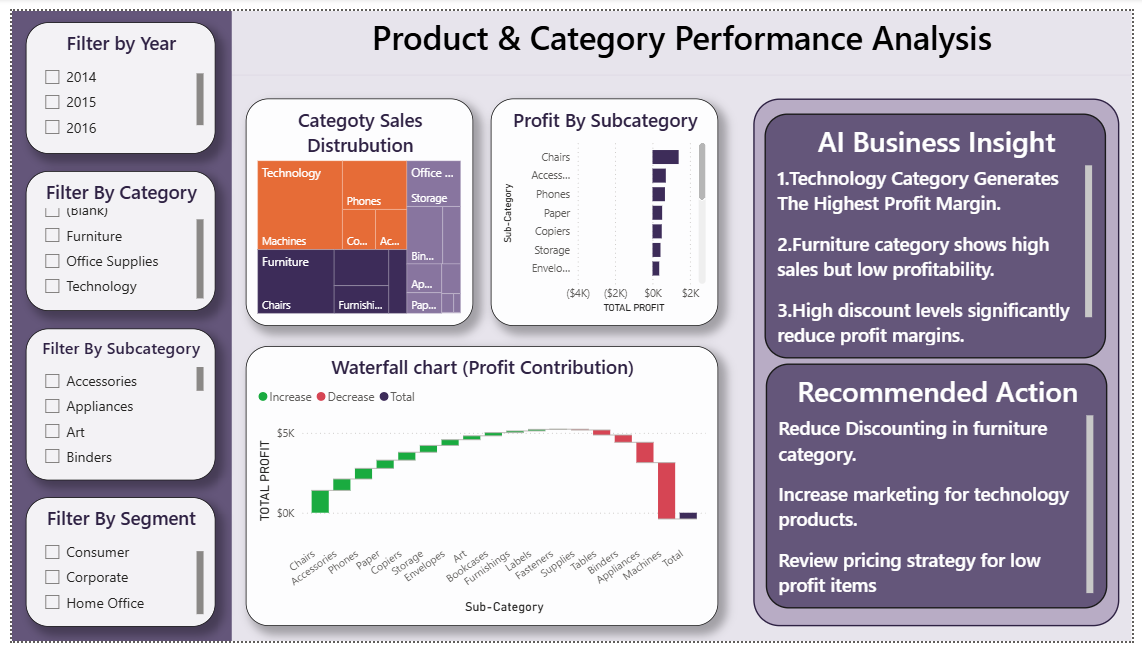

What the dashboard file says about the page in this screenshot:
{"tool":"powerbi","page":{"name":"Performance Analysis","canvas":[1280,720],"ordinal":1},"visuals":[{"type":"textbox","box":[0,0,251,720],"z":0},{"type":"textbox","title":"Product & Category Analysis","box":[251.7,0,1028.3,73.3],"z":1000},{"type":"textbox","box":[252,73,1028,647],"z":2000},{"type":"treemap","title":"Categoty Sales Distrubution","fields":{"Details":["superstore sales _hackethon1 (1).Sub-Category"],"Group":["superstore sales _hackethon1 (1).Category"],"Values":["superstore sales _hackethon1 (1).TOTAL SALES"]},"box":[266.7,100,260,260],"z":3000},{"type":"clusteredBarChart","title":"Profit By Subcategory","fields":{"Y":["superstore sales _hackethon1 (1).TOTAL PROFIT"],"Category":["superstore sales _hackethon1 (1).Sub-Category"]},"box":[546.7,100,260,260],"z":4000},{"type":"waterfallChart","title":"Waterfall chart (Profit Contribution)","fields":{"Y":["superstore sales _hackethon1 (1).TOTAL PROFIT"],"Category":["superstore sales _hackethon1 (1).Sub-Category"]},"box":[266.7,383.3,540,320],"z":5000},{"type":"slicer","title":"Filter by Year","fields":{"Values":["superstore sales _hackethon1 (1).Year"]},"box":[15,13.3,216.7,150],"z":6000},{"type":"slicer","title":"Filter By Category","fields":{"Values":["superstore sales _hackethon1 (1).Category"]},"box":[15,182.8,216.7,160],"z":7000},{"type":"slicer","title":"Filter By Subcategory","fields":{"Values":["superstore sales _hackethon1 (1).Sub-Category"]},"box":[15,362.2,216.7,173.3],"z":8000},{"type":"slicer","title":"Filter By Segment","fields":{"Values":["superstore sales _hackethon1 (1).Segment"]},"box":[15,555,216.7,148.3],"z":9000},{"type":"textbox","box":[846.7,100,418.3,603.3],"z":10000},{"type":"textbox","title":"AI Business Insight","box":[860,116.7,390,280],"z":11000},{"type":"textbox","title":"Recommended Action","box":[861.7,403.3,390,280],"z":12000}]}

Visuals, with their boxes in screenshot pixels (x1, y1, x2, y2), scaled from the page's 1280x720 canvas onto the 1142x652 screenshot:
textbox: bbox(0, 0, 224, 651)
"Product & Category Analysis" textbox: bbox(225, 0, 1141, 66)
textbox: bbox(225, 66, 1141, 651)
"Categoty Sales Distrubution" treemap: bbox(238, 91, 470, 326)
"Profit By Subcategory" clusteredBarChart: bbox(488, 91, 720, 326)
"Waterfall chart (Profit Contribution)" waterfallChart: bbox(238, 347, 720, 637)
"Filter by Year" slicer: bbox(13, 12, 207, 148)
"Filter By Category" slicer: bbox(13, 166, 207, 310)
"Filter By Subcategory" slicer: bbox(13, 328, 207, 485)
"Filter By Segment" slicer: bbox(13, 503, 207, 637)
textbox: bbox(755, 91, 1129, 637)
"AI Business Insight" textbox: bbox(767, 106, 1115, 359)
"Recommended Action" textbox: bbox(769, 365, 1117, 619)
